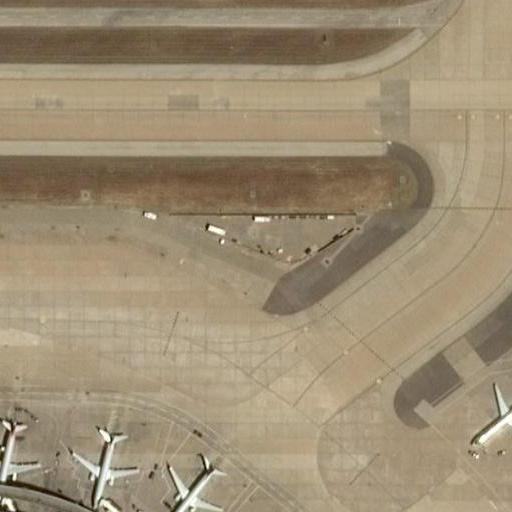Aircraft: (71, 423, 133, 502), (159, 452, 226, 512), (467, 377, 512, 452), (0, 414, 43, 491)
